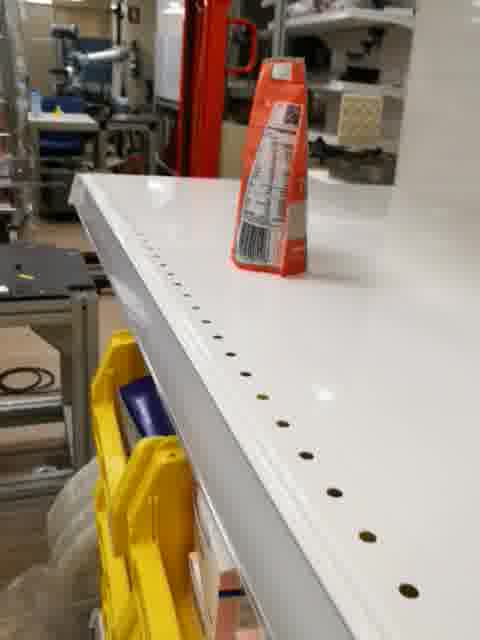whitechia: (227, 54, 314, 280)
